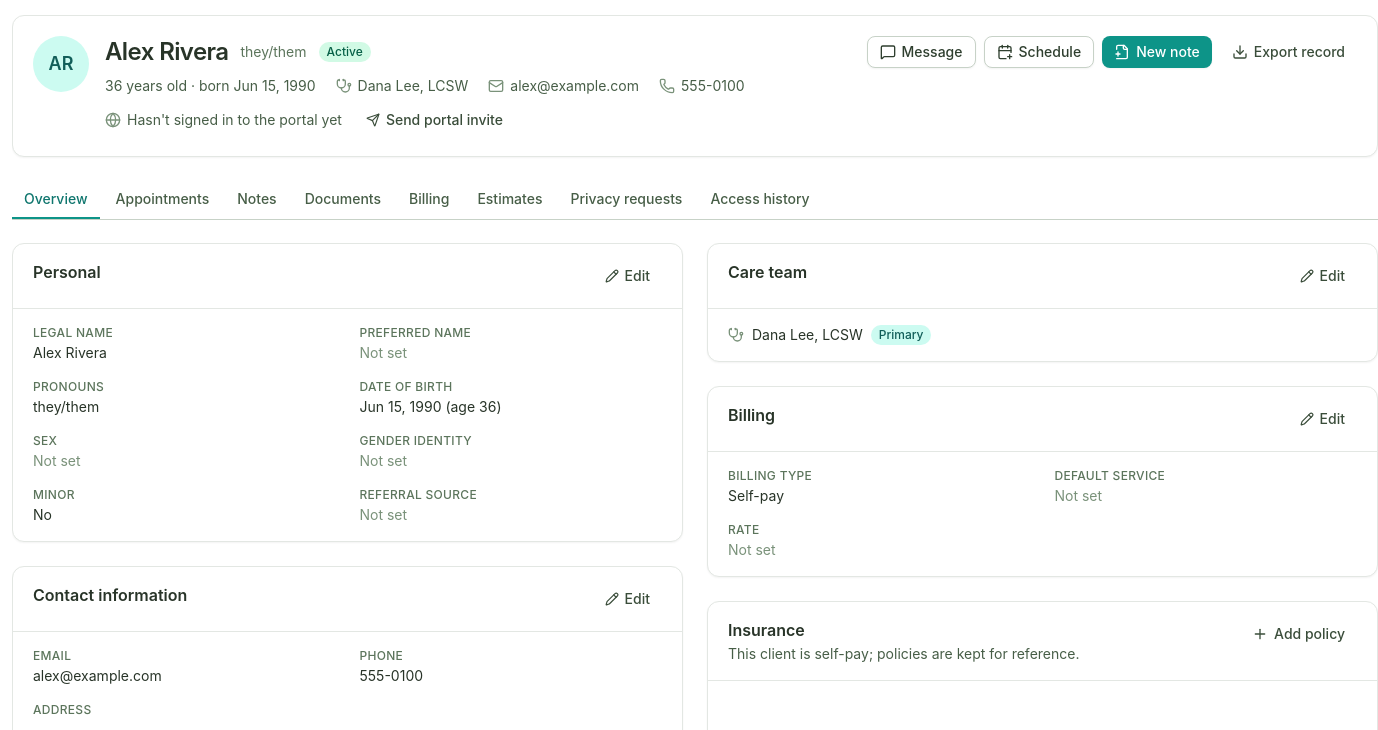
Test case: ClientDetailPage › saves only the fields that changed in a section
Click the button with aria-label "edit personal". click: (627, 276)
box: [593, 260, 662, 292]
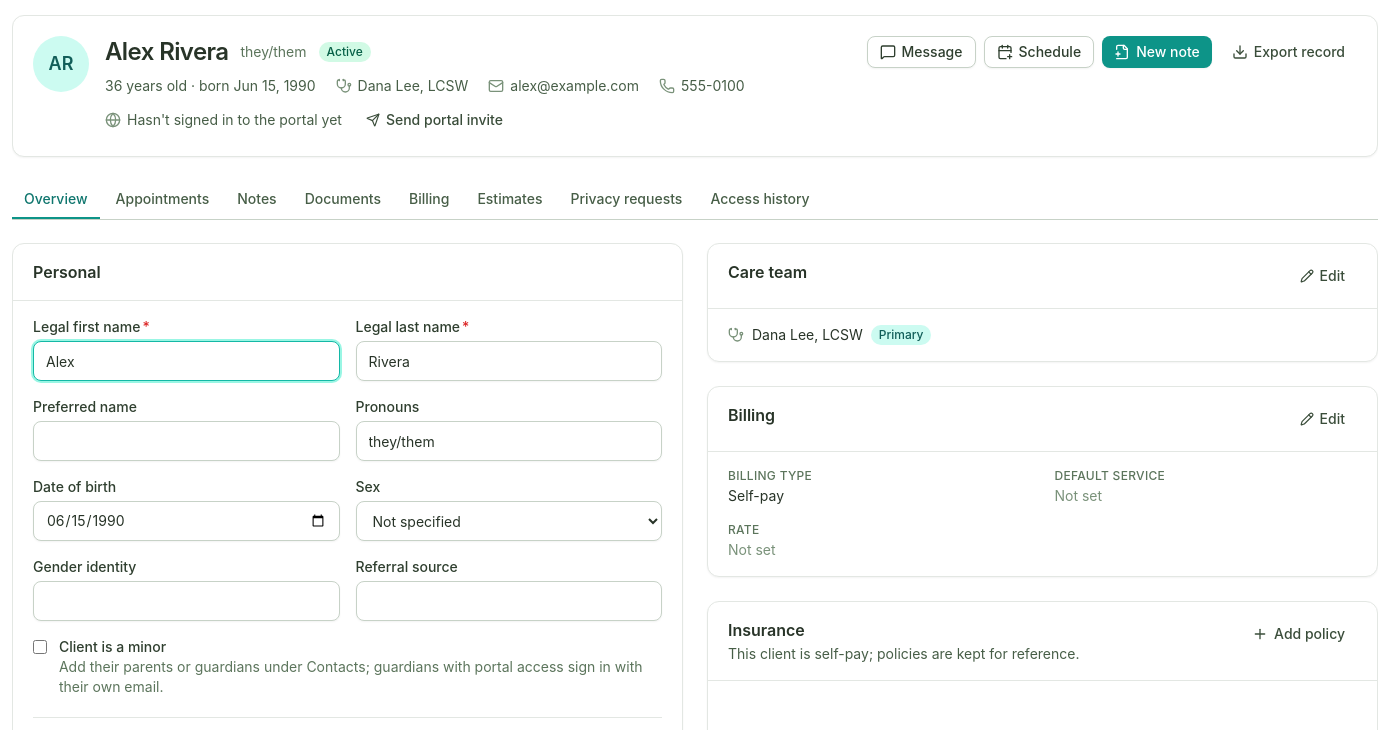
Replace the text in the field labelled "Pronouns" with "she/her". click: (509, 441)
box: [356, 421, 662, 461]
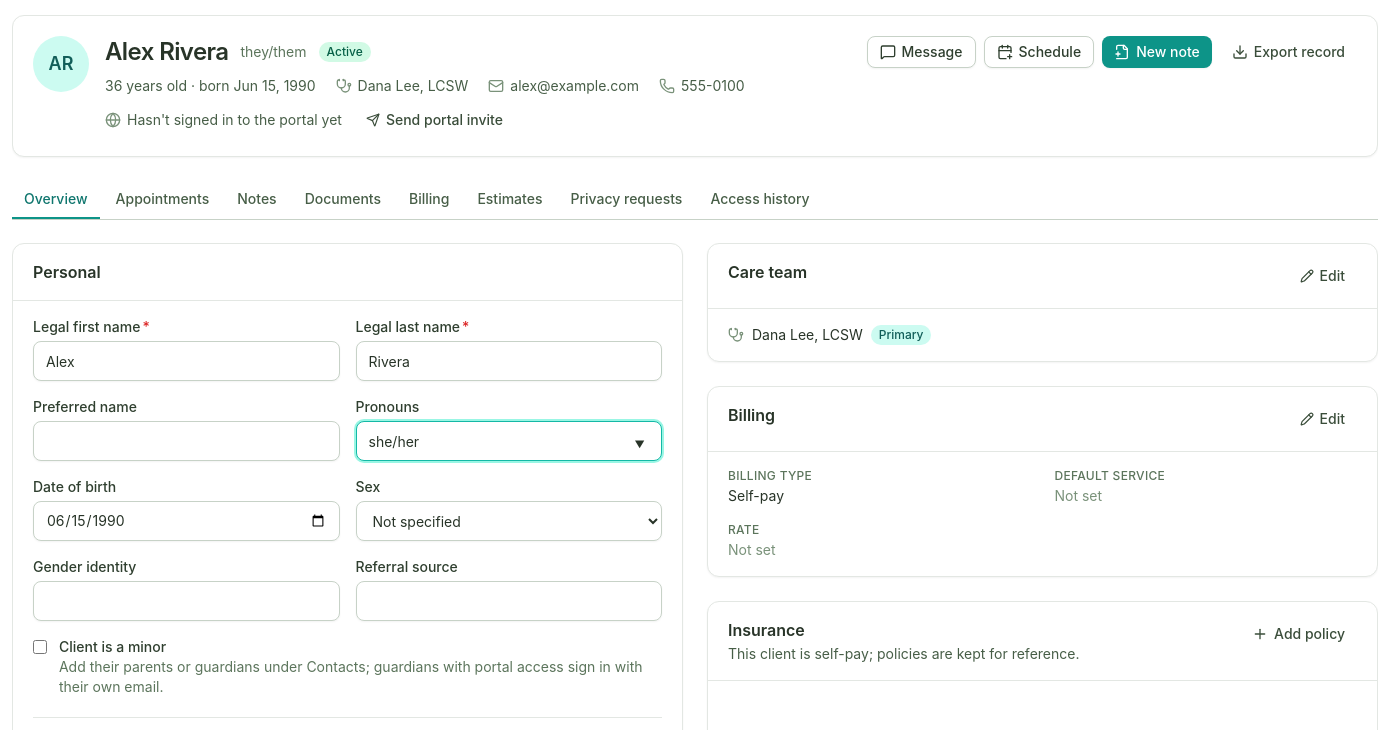
Click the checkbox labelled "Client is a minor". click: (40, 647)
box: [33, 639, 47, 655]
(page scrolled)
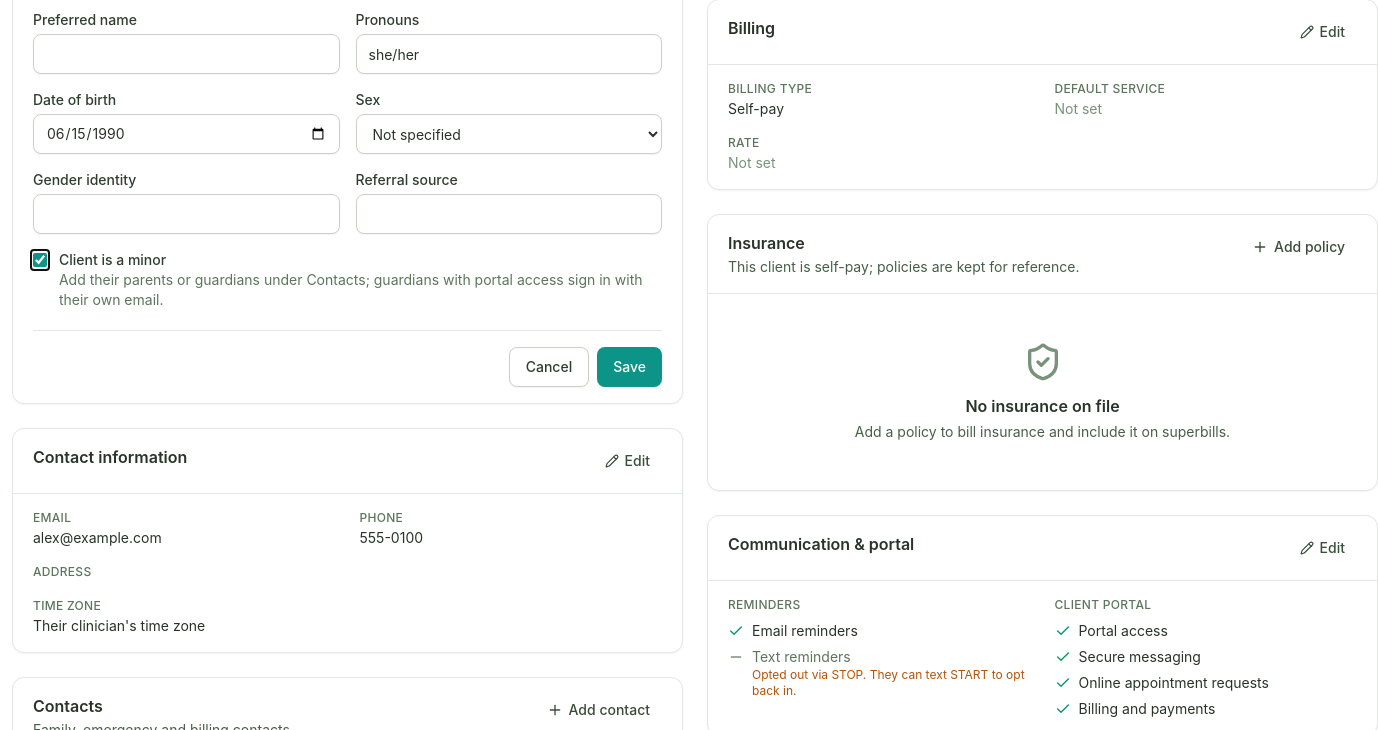
Click the button "Save". click: (630, 367)
box: [597, 347, 662, 387]
(page scrolled)
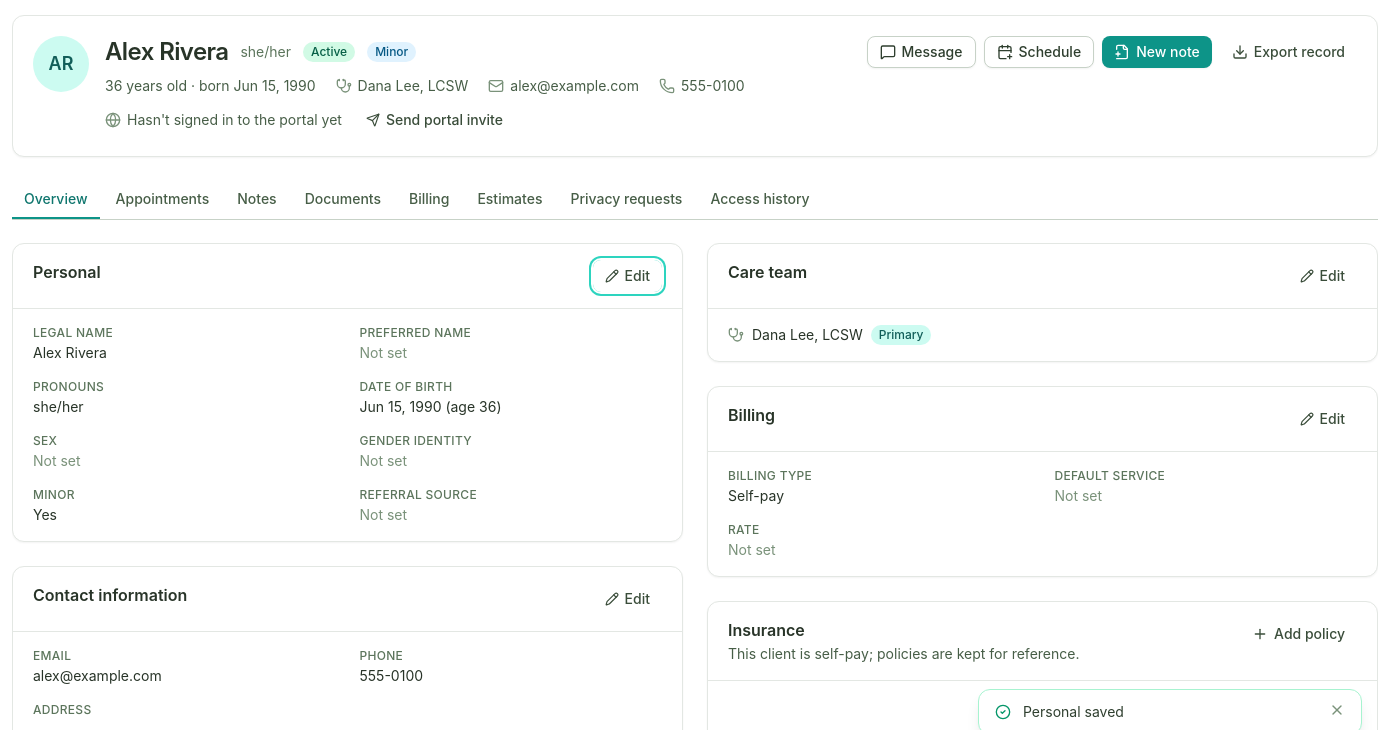
Expected: the text "Personal saved" is shown, [1023, 703, 1124, 720]
Expected: the text "Minor" in the row of "Message" is shown, [375, 44, 408, 59]
